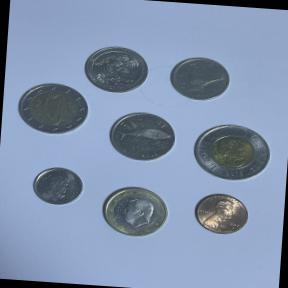coin: (188, 118, 279, 186), (96, 180, 180, 244), (15, 76, 92, 138), (106, 106, 182, 166), (80, 42, 152, 97), (187, 186, 256, 240), (25, 160, 88, 210)
